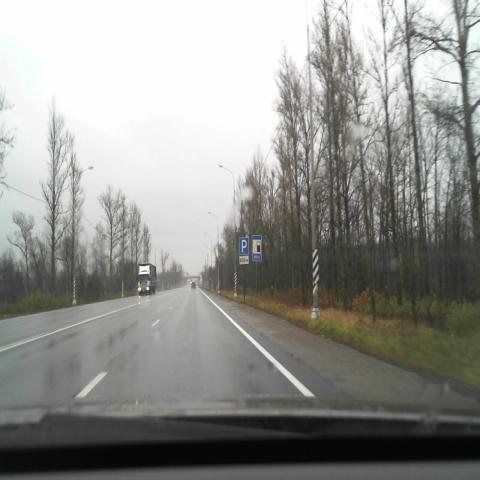6_4: (239, 237, 249, 255)
7_3: (252, 235, 262, 261)
